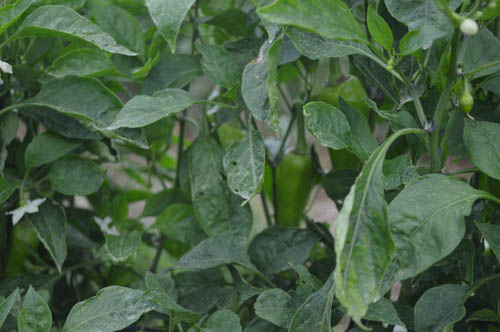ChiliPepper: (273, 154, 315, 229)
